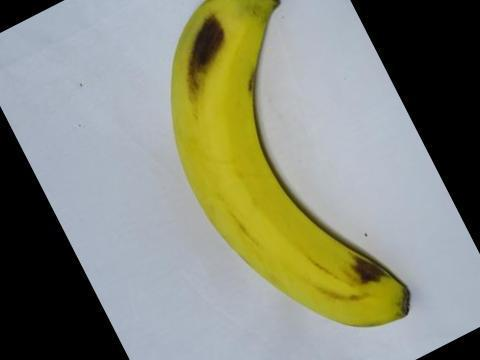freshripe: (151, 0, 419, 333)
